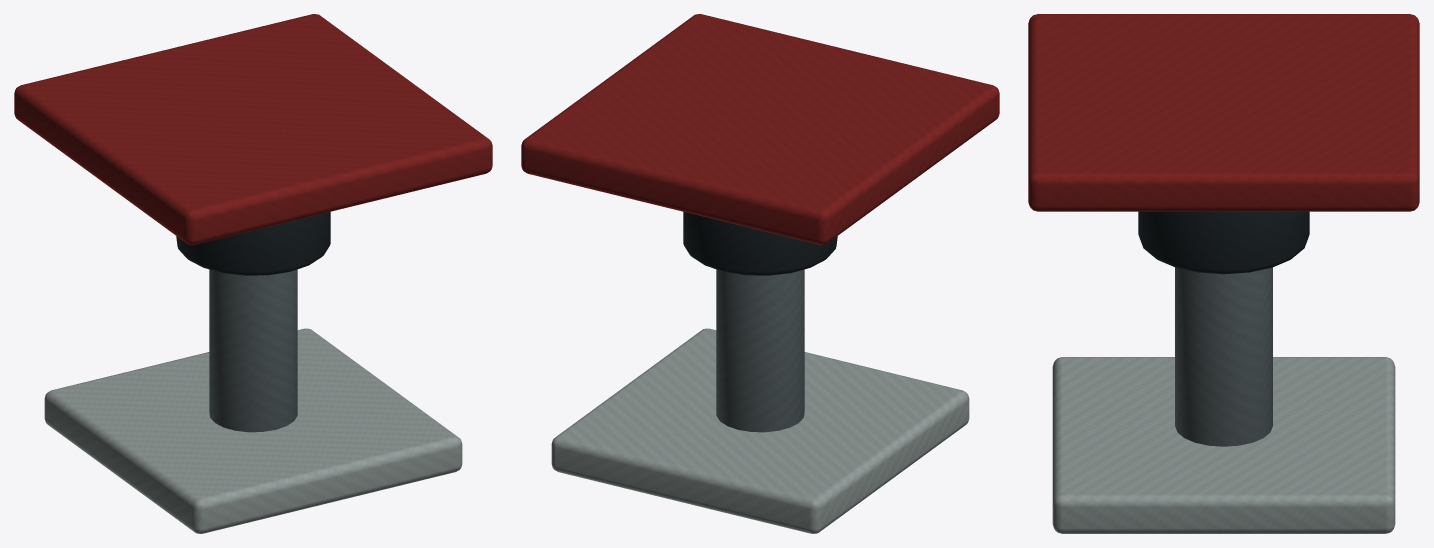
File: CeilingSprinkler.fbx
3 renders of one model, left to right at view 1: azimuth 30°, elevation 25°; view 2: azimuth 150°, elevation 25°; view 3: azimuth 270°, elevation 25°, orthographic. The views are drawn at different scales.
Parts seen in each view (by area): view 1: CeilingSprinkler_Mesh; view 2: CeilingSprinkler_Mesh; view 3: CeilingSprinkler_Mesh.
Boxes of the visible parts, bbox=[...] form: CeilingSprinkler_Mesh: bbox=[14, 14, 492, 533]; CeilingSprinkler_Mesh: bbox=[521, 14, 999, 533]; CeilingSprinkler_Mesh: bbox=[1028, 14, 1419, 533].
Bounding box in the file's own units: 32 × 33.75 × 32.
Materials: 5 (5 with a texture image).
